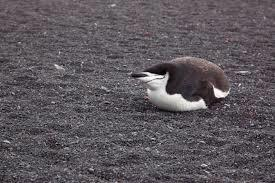chinstrap: (104, 46, 233, 118)
